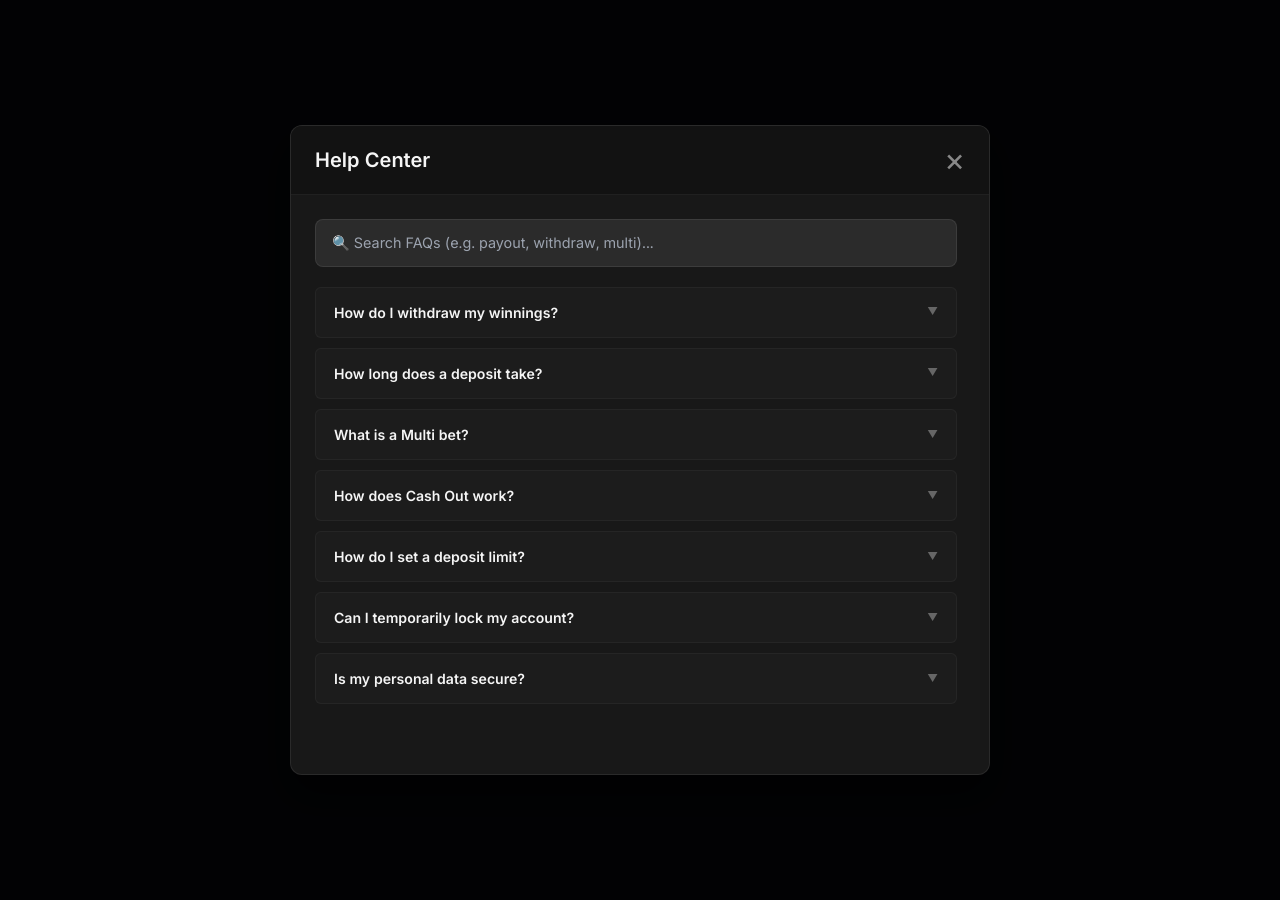
FooterModal › Help Center Tab › should show empty state when no FAQs match
The width and height of the screenshot is (1280, 900).
Type "nonexistent term xyz" into the field with placeholder "🔍 Search FAQs (e.g. payout, withdraw, multi)..." at (636, 243), box [315, 219, 957, 267]
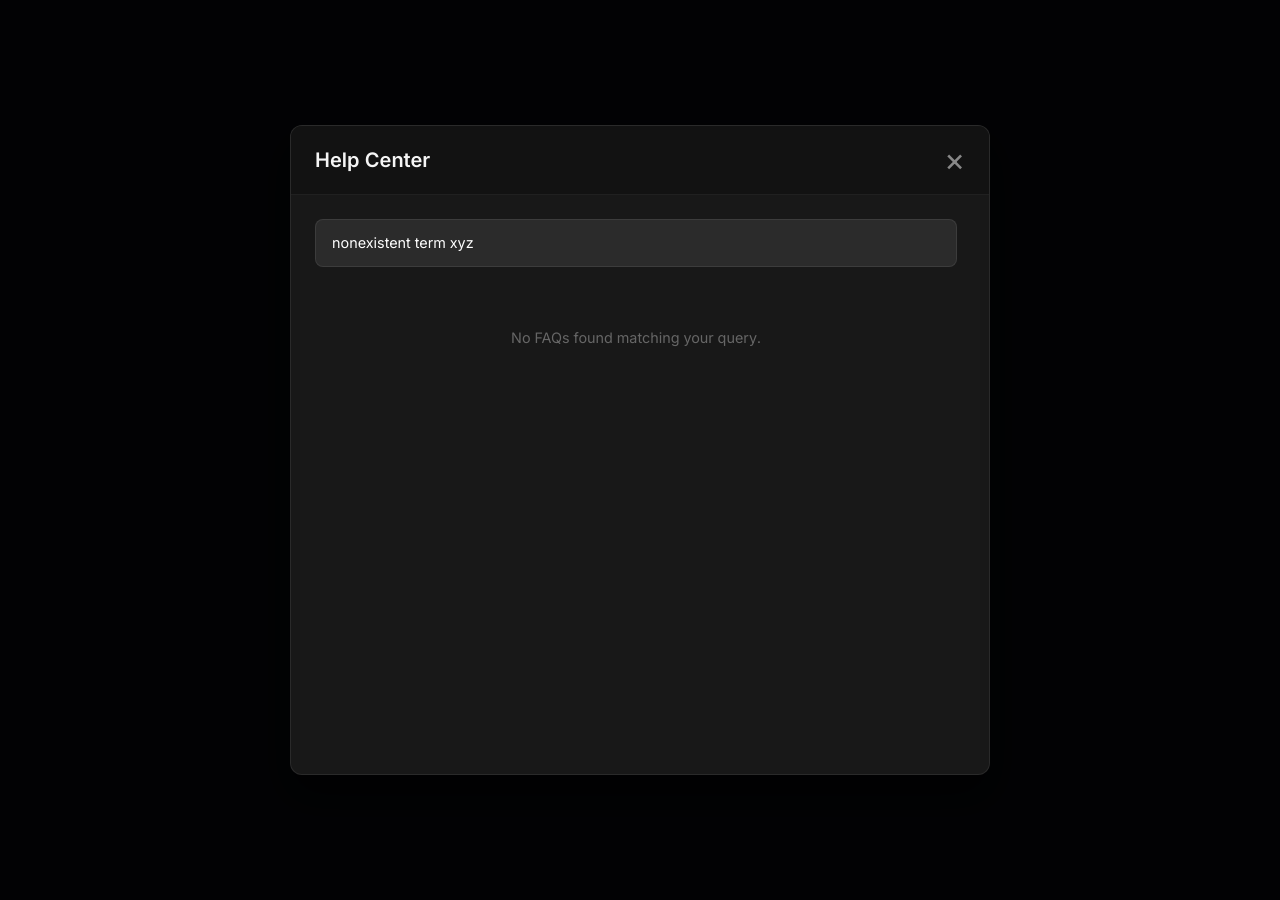
Check: the text "No FAQs found matching your query." is shown, box [511, 329, 761, 346]
